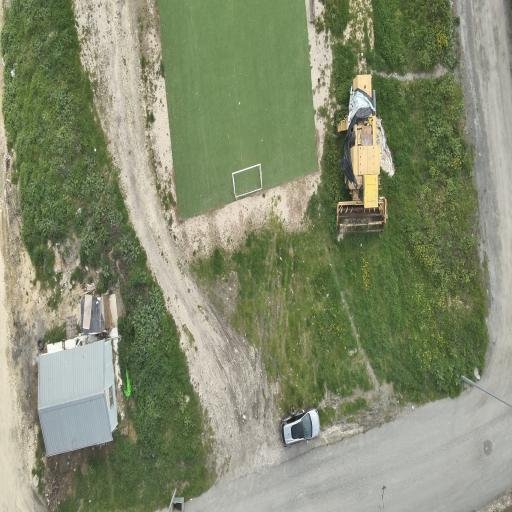car: (280, 408, 318, 446)
harvester: (336, 74, 385, 233)
